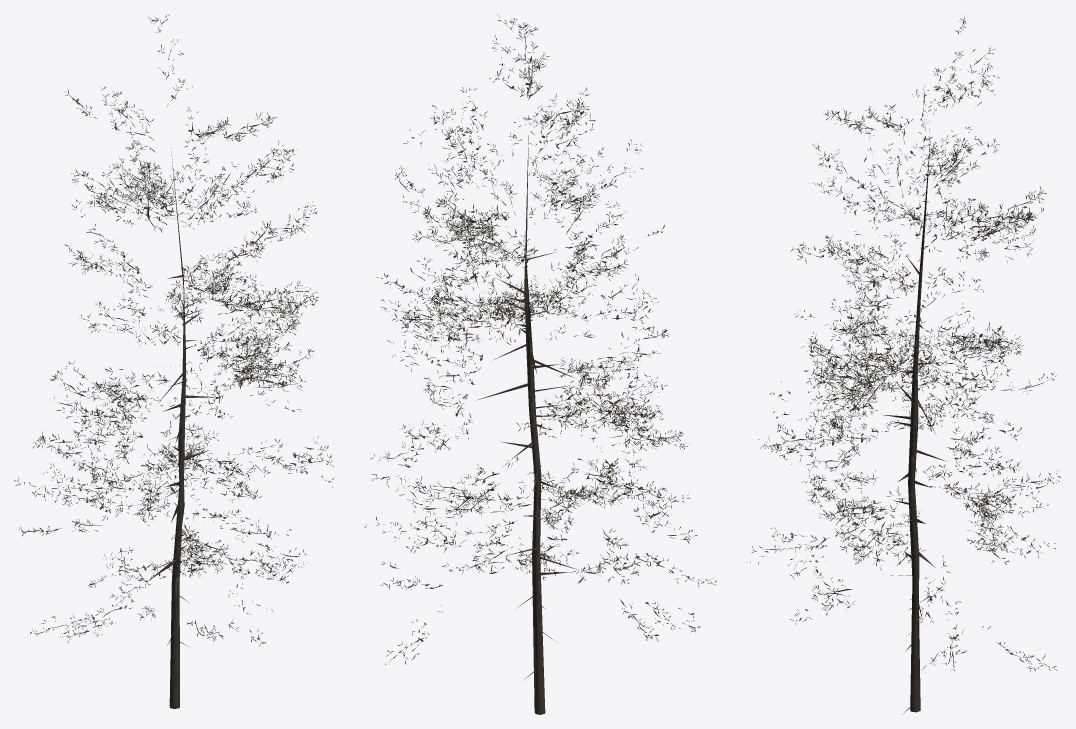
File: pine_sapling_medium-lod0.glb
3 renders of one model, left to right at view 1: azimuth 30°, elevation 25°; view 2: azimuth 150°, elevation 25°; view 3: azimuth 270°, elevation 25°, orthographic. The views are drawn at different scales.
Visible parts, largest first — view 1: pine_sapling_medium_a_LOD0; view 2: pine_sapling_medium_a_LOD0; view 3: pine_sapling_medium_a_LOD0.
Boxes of the visible parts, <box> form: pine_sapling_medium_a_LOD0: <box>14,14,334,708</box>; pine_sapling_medium_a_LOD0: <box>364,14,716,714</box>; pine_sapling_medium_a_LOD0: <box>746,17,1060,714</box>.
Bounding box in the file's own units: 2.22 × 4.92 × 2.02.
3 materials, 3 textured.
